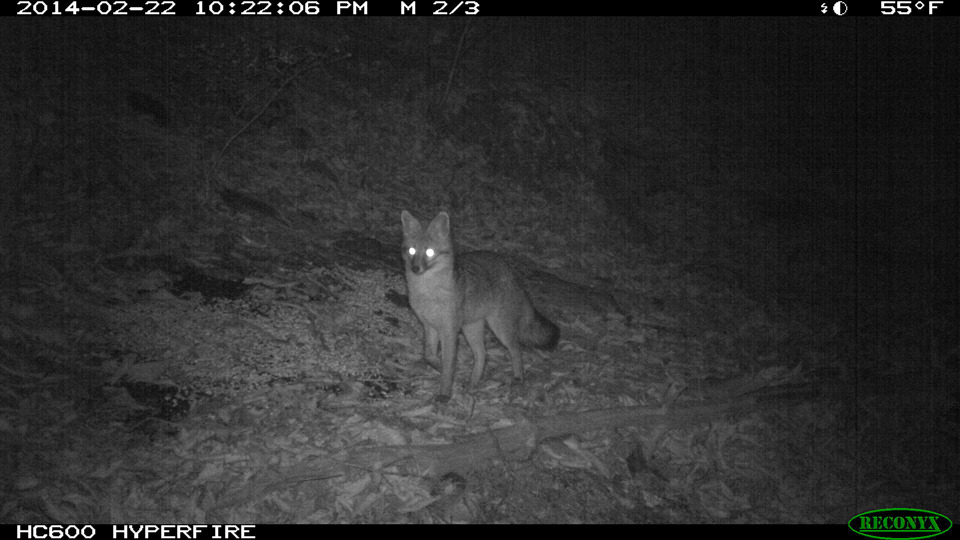fox: (384, 196, 574, 402)
